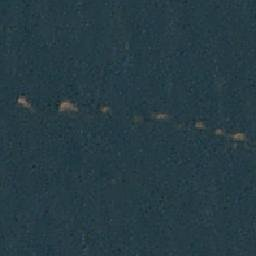debris: (212, 126, 244, 143), (13, 94, 34, 112), (56, 99, 78, 113), (151, 110, 168, 121), (132, 113, 145, 125), (194, 119, 205, 129), (98, 105, 110, 114)
